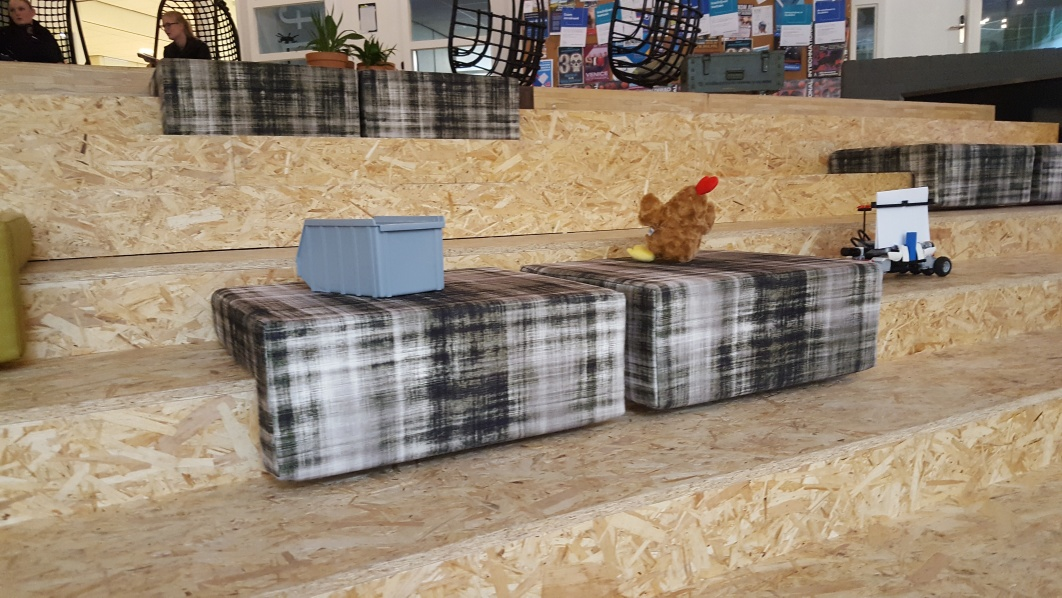car: (840, 187, 954, 276)
chicken: (625, 177, 720, 263)
tray: (294, 212, 448, 297)
